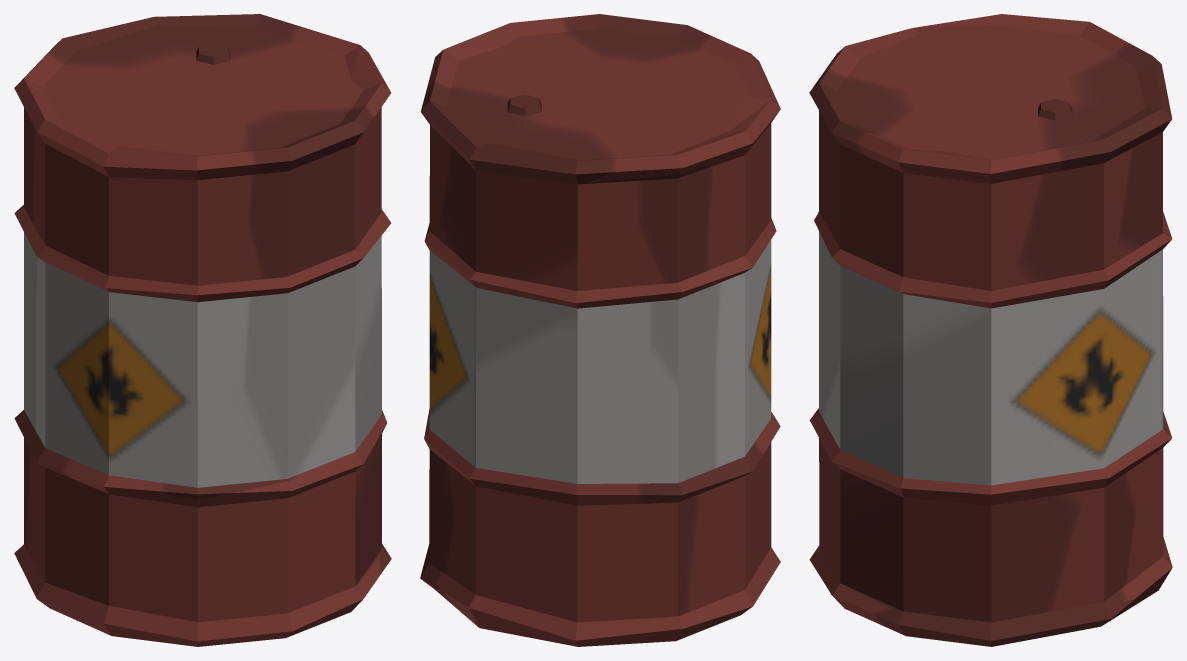
Rendered from SM_Prop_Barrel_Warning_01.obj.
3 renders of one model, left to right at view 1: azimuth 30°, elevation 25°; view 2: azimuth 150°, elevation 25°; view 3: azimuth 270°, elevation 25°, orthographic.
Visible parts, largest first — view 1: SM_Prop_Barrel_Warning_01_0; view 2: SM_Prop_Barrel_Warning_01_0; view 3: SM_Prop_Barrel_Warning_01_0.
Boxes of the visible parts, x1,y1,x2,y2 form: SM_Prop_Barrel_Warning_01_0: (14, 14, 391, 646); SM_Prop_Barrel_Warning_01_0: (420, 14, 780, 646); SM_Prop_Barrel_Warning_01_0: (809, 14, 1172, 646).
Size of the model in its own units: 0.7261 by 1.05 by 0.7052.
1 material, 1 textured.
